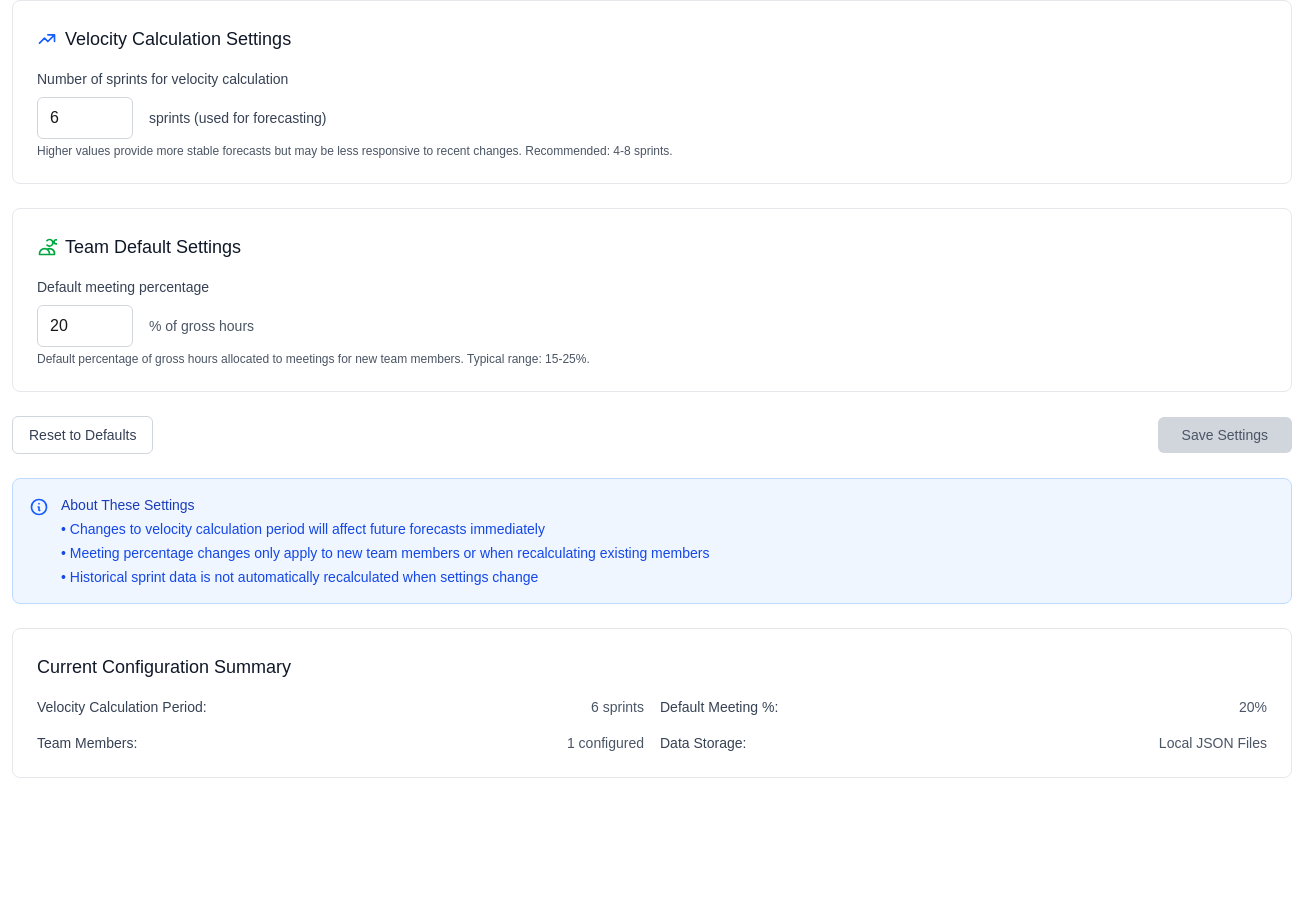
Test: SettingsForm › resets form to original values when cancel is clicked
Note: Change value
Replace the text in the number field labelled "Number of sprints for velocity calculation" with "8" at (85, 118), box [37,97,133,139]
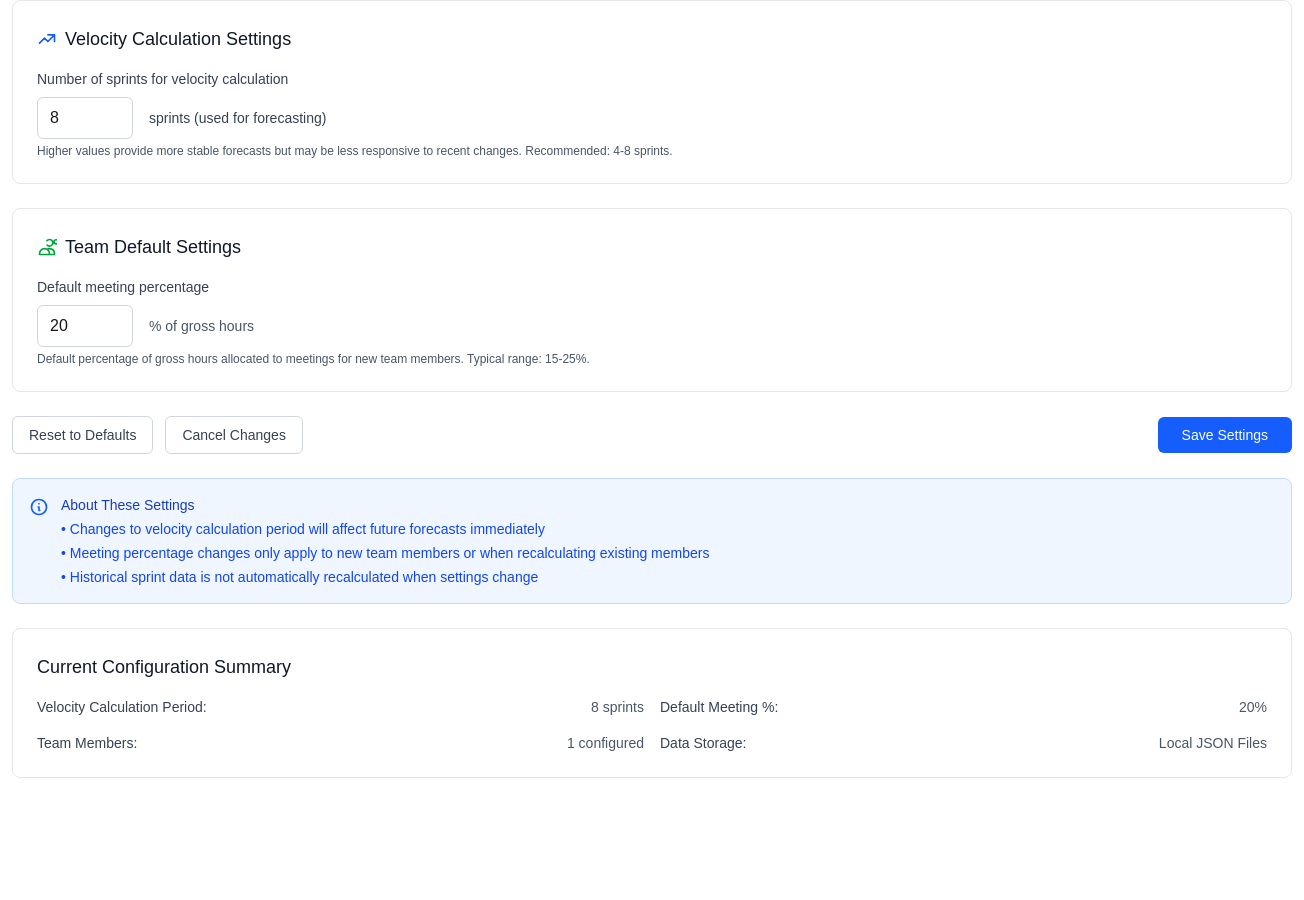
Note: Click cancel
Click the button "Cancel Changes" at (234, 435), box [165,416,303,454]
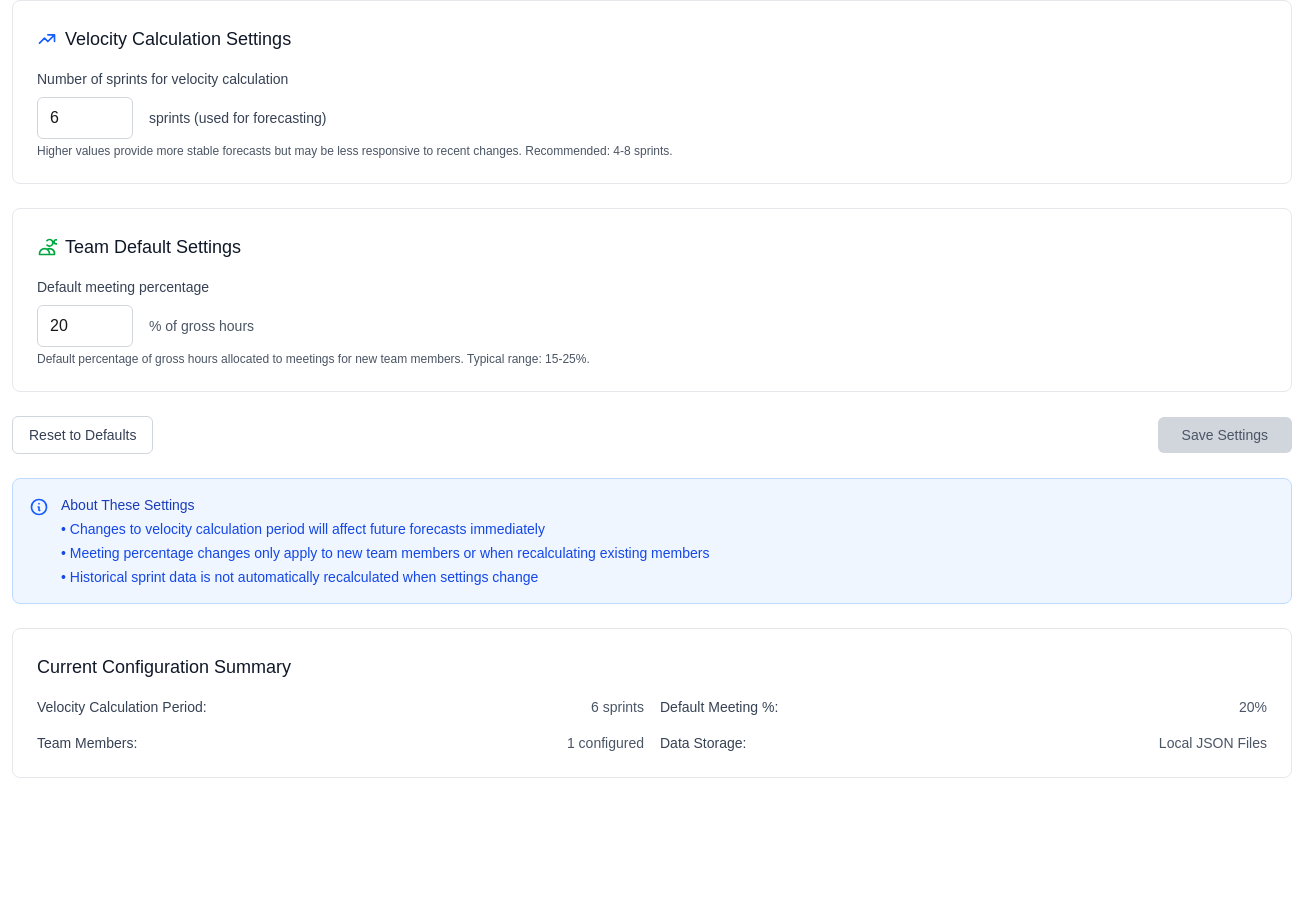
expect the number field labelled "Number of sprints for velocity calculation" holds "6": met, box [37,97,133,139]
